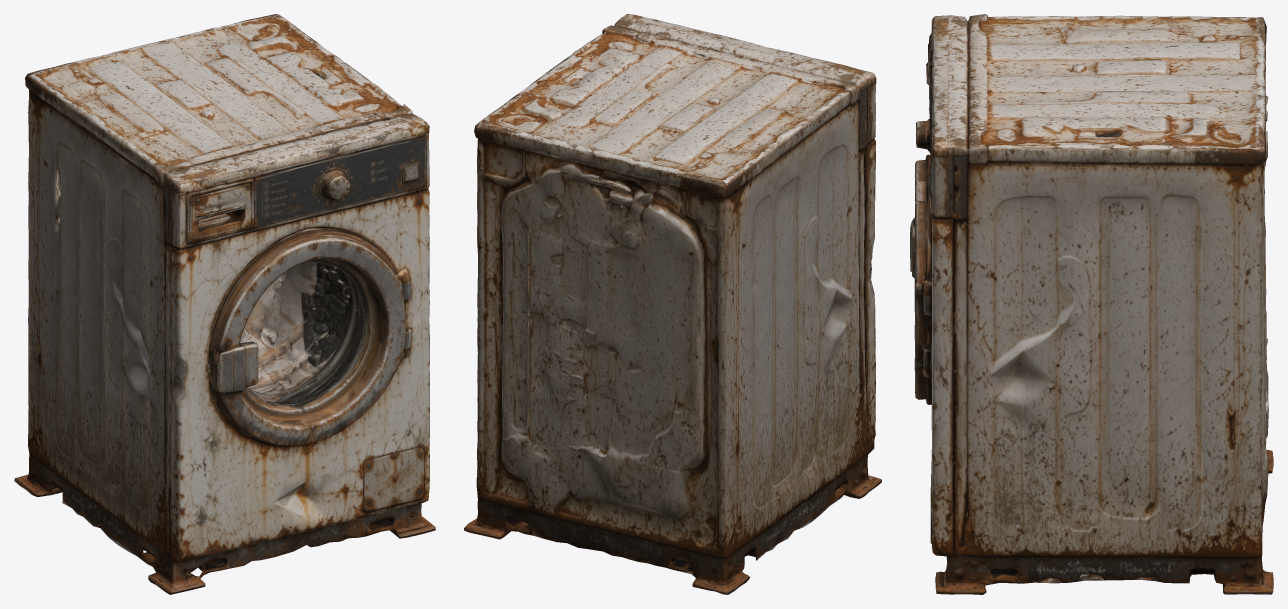
Rendered from WashingMachine.fbx.
3 views of the same model, side by side, from view 1: azimuth 30°, elevation 25°; view 2: azimuth 150°, elevation 25°; view 3: azimuth 270°, elevation 25° (orthographic). The views are drawn at different scales.
Parts seen in each view (by area): view 1: texture_mapping; view 2: texture_mapping; view 3: texture_mapping.
Boxes of the visible parts, x1=… form: texture_mapping: x1=14, y1=14, x2=435, y2=594; texture_mapping: x1=464, y1=14, x2=881, y2=594; texture_mapping: x1=910, y1=14, x2=1273, y2=594.
Size of the model in its own units: 0.6802 by 0.74 by 1.
Materials: 1 (1 with a texture image).
